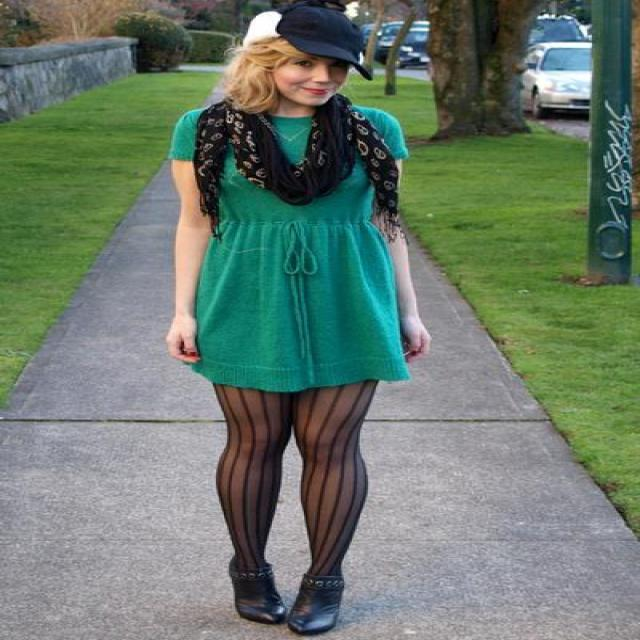dress: (168, 105, 411, 392)
hat: (274, 21, 364, 62)
shoe: (235, 581, 342, 636)
